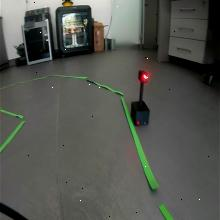red: (138, 70, 148, 84)
